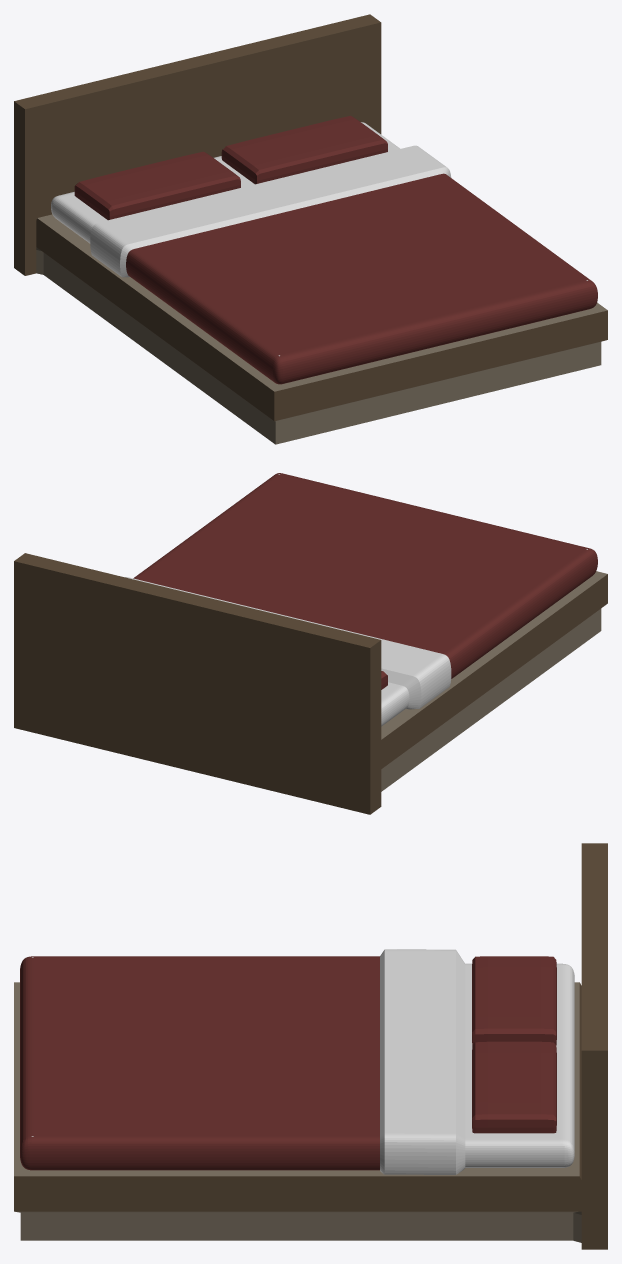
The model's file is BED.fbx.
3 renders of one model, top to bottom at view 1: azimuth 30°, elevation 25°; view 2: azimuth 150°, elevation 25°; view 3: azimuth 270°, elevation 25°, orthographic. The views are drawn at different scales.
Parts seen in each view (by area): view 1: Bed; view 2: Bed; view 3: Bed.
Part boxes in pixels (x1=…): Bed: x1=14, y1=14, x2=607, y2=444; Bed: x1=14, y1=473, x2=607, y2=814; Bed: x1=14, y1=843, x2=607, y2=1249.
Bounding box in the file's own units: 1635 × 732 × 1981.
